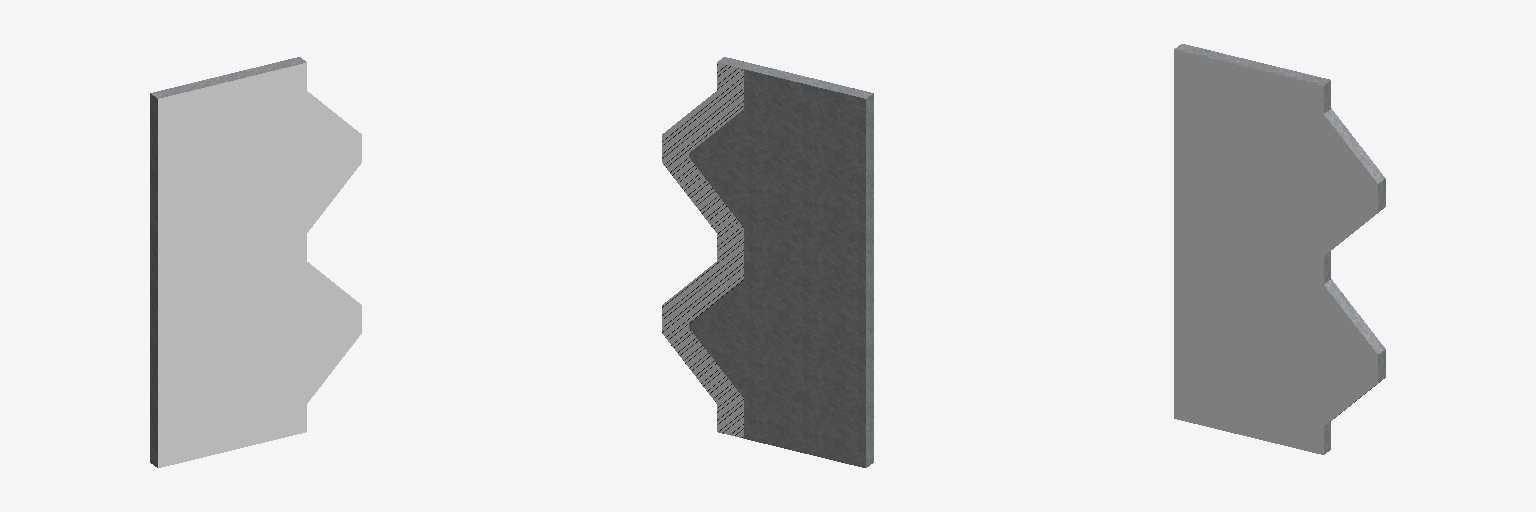
3 views of the same model, side by side, from view 1: azimuth 30°, elevation 25°; view 2: azimuth 150°, elevation 25°; view 3: azimuth 330°, elevation 25° (orthographic).
Visible parts, largest first — view 1: group_0_ID3, group_0.001_ID11; view 2: group_0.001_ID11, group_0.002_ID24; view 3: group_0_ID3, group_0.001_ID11.
Part boxes in pixels (bbox=[...]): group_0_ID3: bbox=[158, 63, 361, 467]; group_0.001_ID11: bbox=[150, 57, 306, 467]; group_0.001_ID11: bbox=[689, 57, 873, 467]; group_0.002_ID24: bbox=[662, 63, 743, 438]; group_0_ID3: bbox=[1174, 49, 1382, 454]; group_0.001_ID11: bbox=[1175, 44, 1385, 454].
Bounding box in the file's own units: 2.83 × 4.9 × 0.1886.
3 materials, 2 textured.